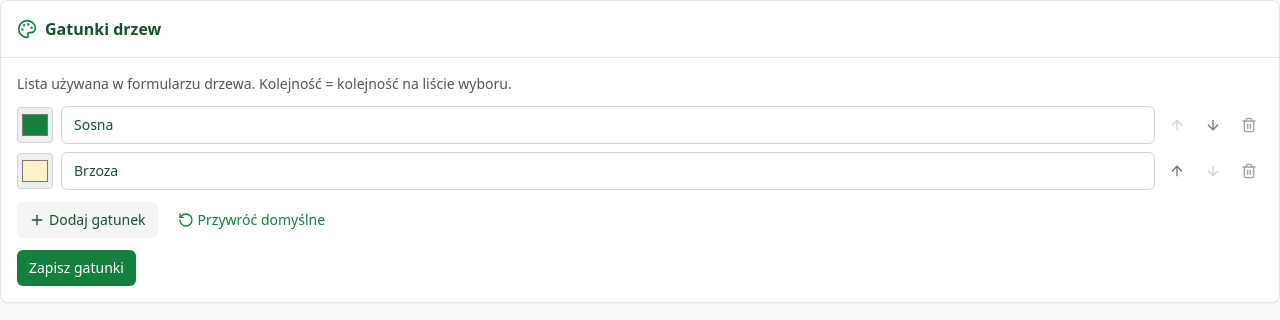
SpeciesEditor › should reorder species moved up
Click the button named "Przenieś Brzoza w górę" at (1177, 171), box x1=1163 y1=157 x2=1191 y2=185
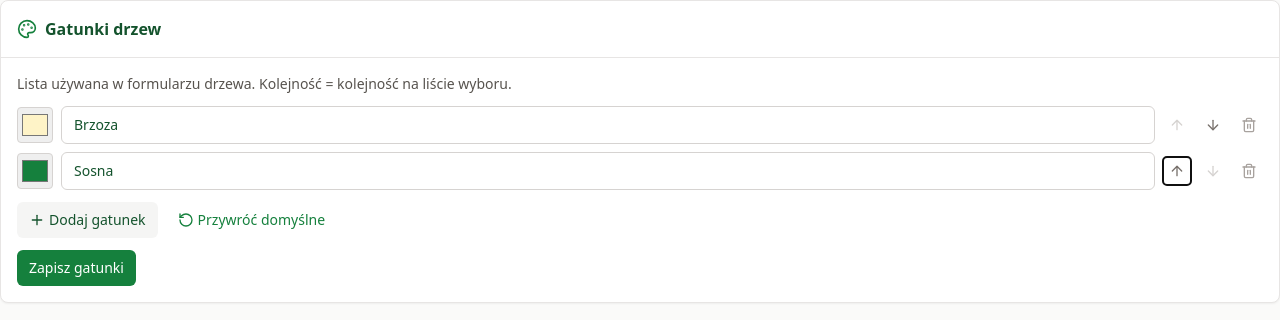
Expected: the field named "Nazwa gatunku 1" holds "Brzoza", x1=61 y1=106 x2=1155 y2=144
